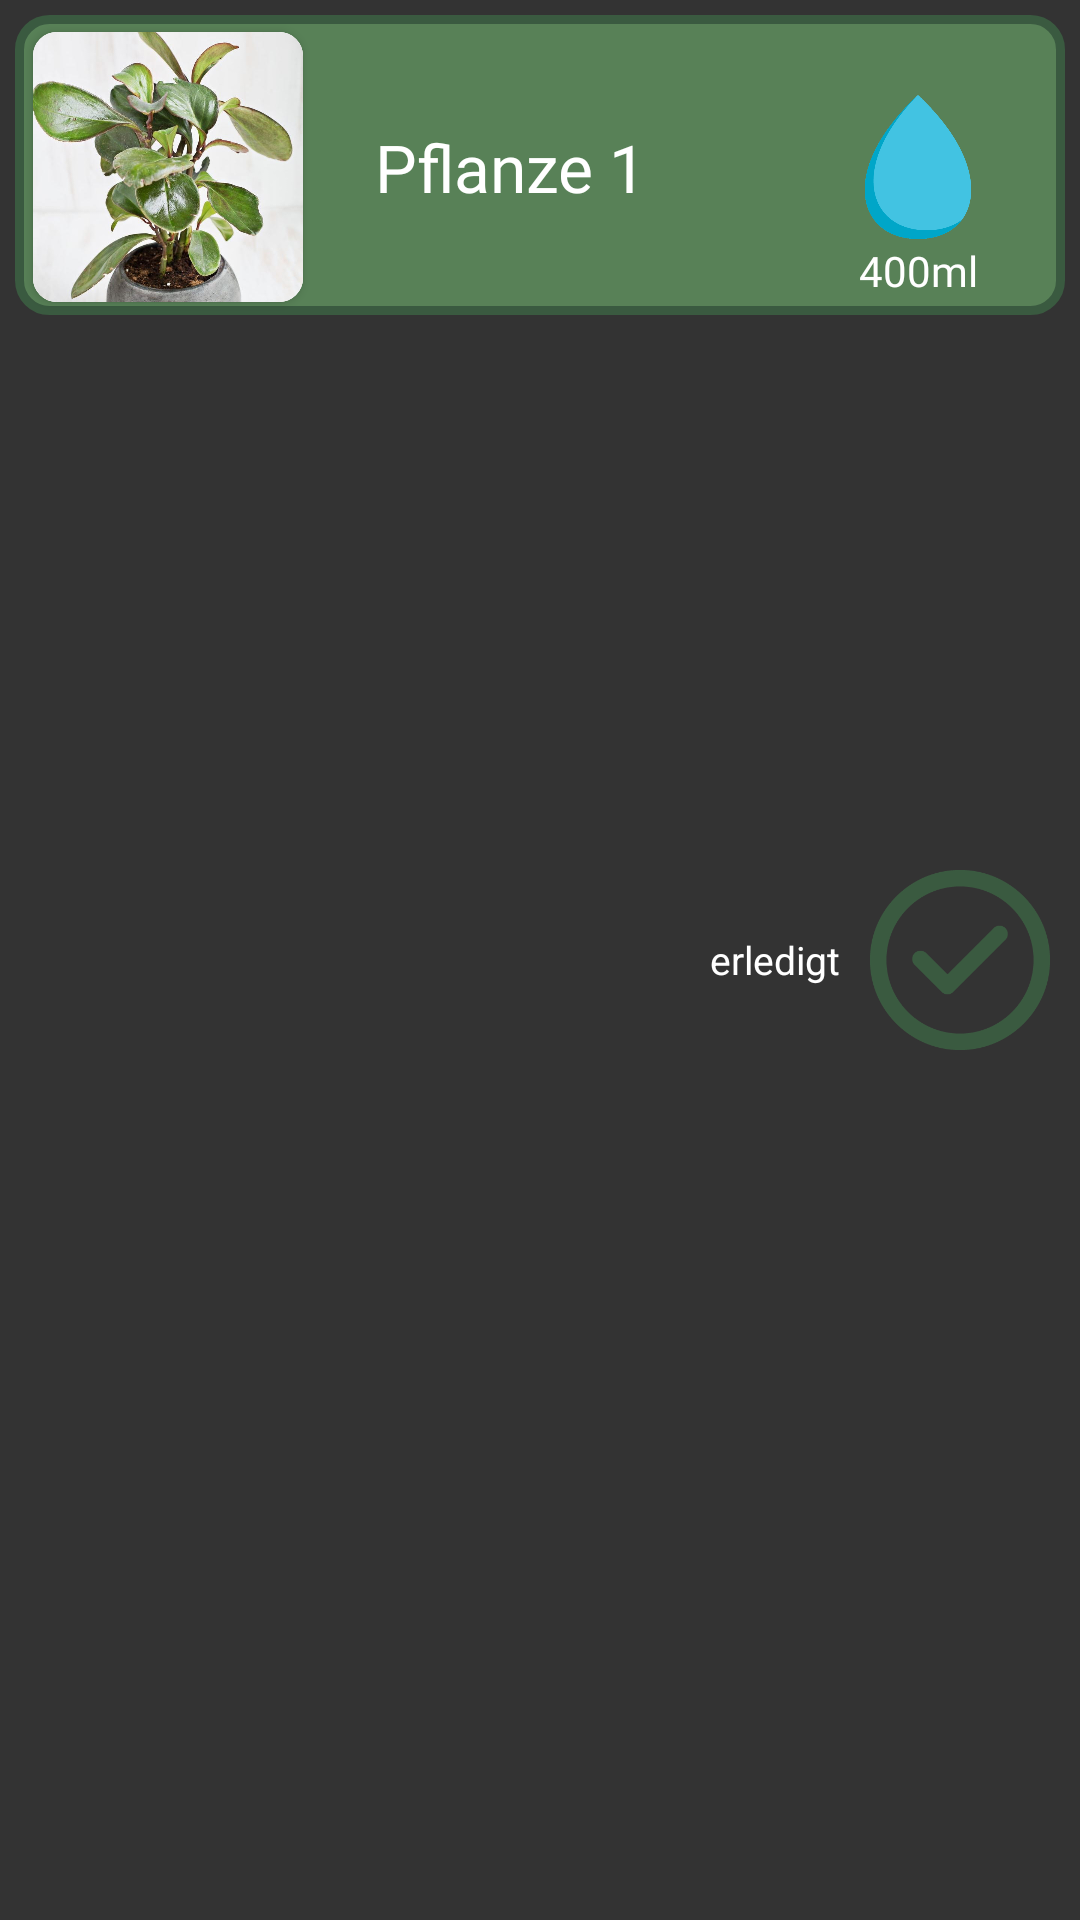

Named icons in this screenshot (1080x1920) and their centers, [x,y]:
check: [960,960]
drop: [918,167]
plant photo: [168,167]
